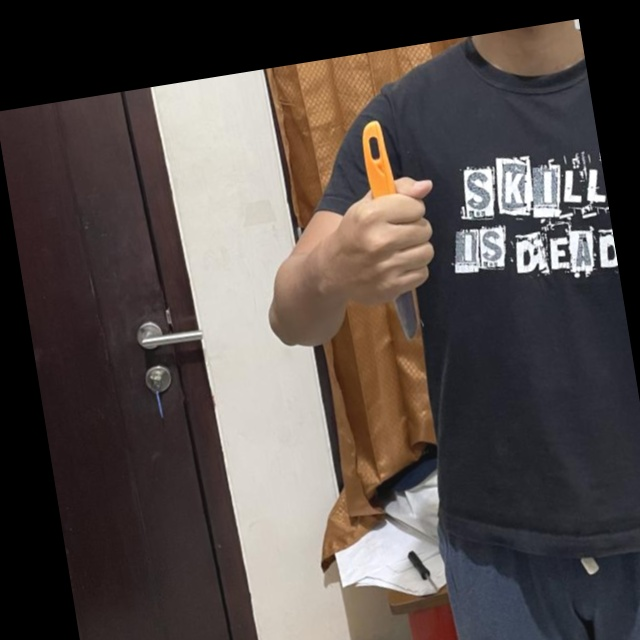Sharp-Object: (355, 117, 422, 347)
